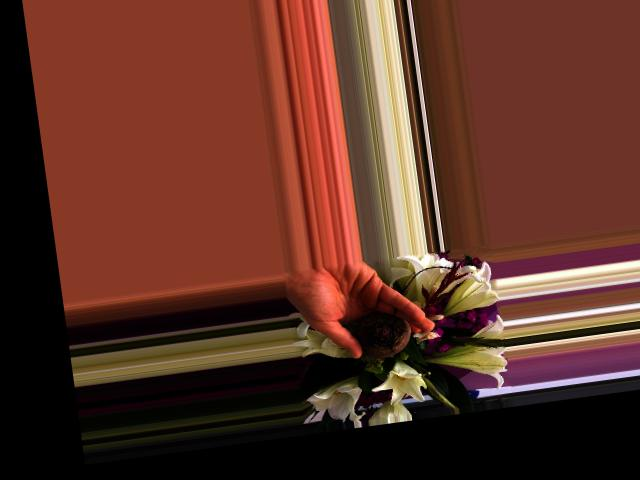beet: (352, 307, 415, 360)
